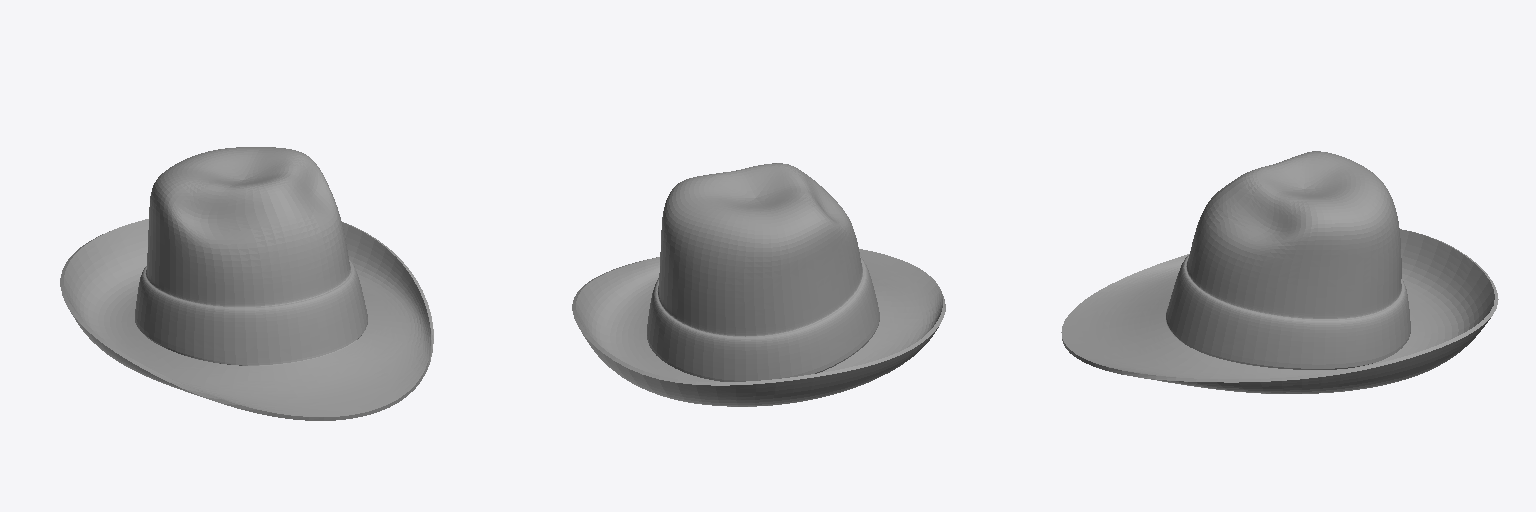
Rendered from fedora.obj.
3 views of the same model, side by side, from view 1: azimuth 30°, elevation 25°; view 2: azimuth 150°, elevation 25°; view 3: azimuth 270°, elevation 25° (orthographic).
Visible parts, largest first — view 1: Cylinder; view 2: Cylinder; view 3: Cylinder.
Boxes of the visible parts, x1,y1,x2,y2 form: Cylinder: [60, 147, 433, 420]; Cylinder: [572, 163, 945, 406]; Cylinder: [1061, 151, 1498, 393].
Size of the model in its own units: 2.6 by 1.3 by 3.18.